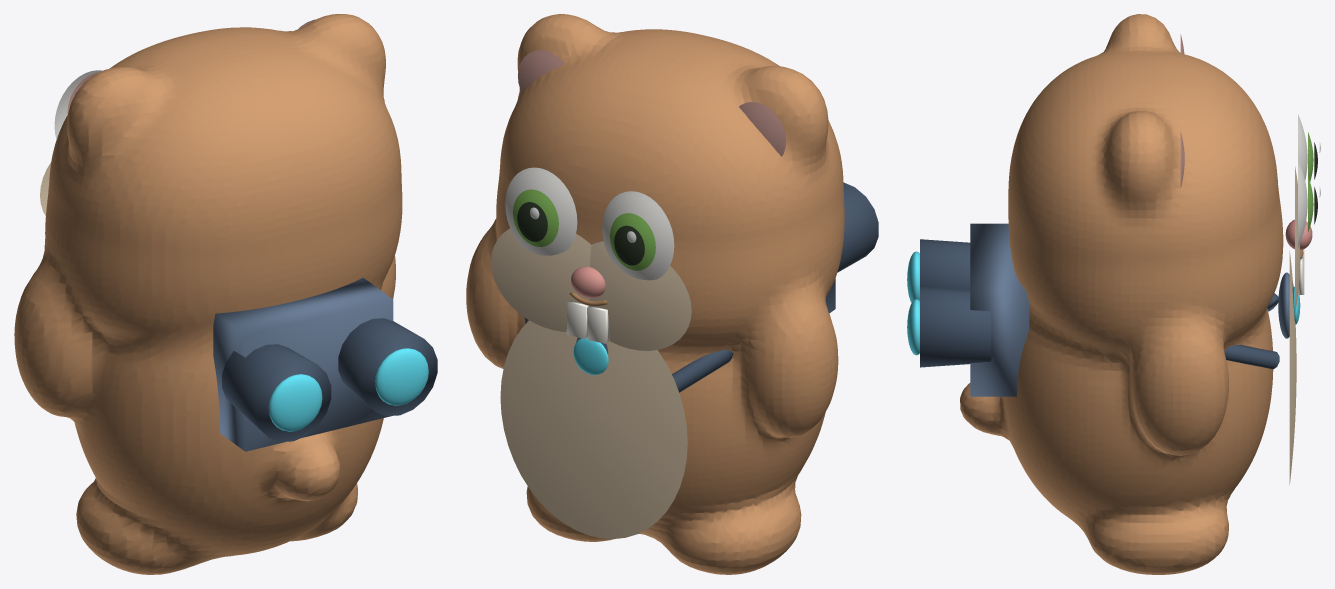
File: dongdongyao-development.glb
3 renders of one model, left to right at view 1: azimuth 30°, elevation 25°; view 2: azimuth 150°, elevation 25°; view 3: azimuth 270°, elevation 25°, orthographic. The views are drawn at different scales.
Visible parts, largest first — view 1: Dongdongyao_HighFidelity; view 2: Dongdongyao_HighFidelity; view 3: Dongdongyao_HighFidelity.
Boxes of the visible parts, x1=… form: Dongdongyao_HighFidelity: x1=14, y1=14, x2=437, y2=574; Dongdongyao_HighFidelity: x1=466, y1=14, x2=878, y2=574; Dongdongyao_HighFidelity: x1=907, y1=14, x2=1320, y2=574.
Bounding box in the file's own units: 1.58 × 2.1 × 1.69.
